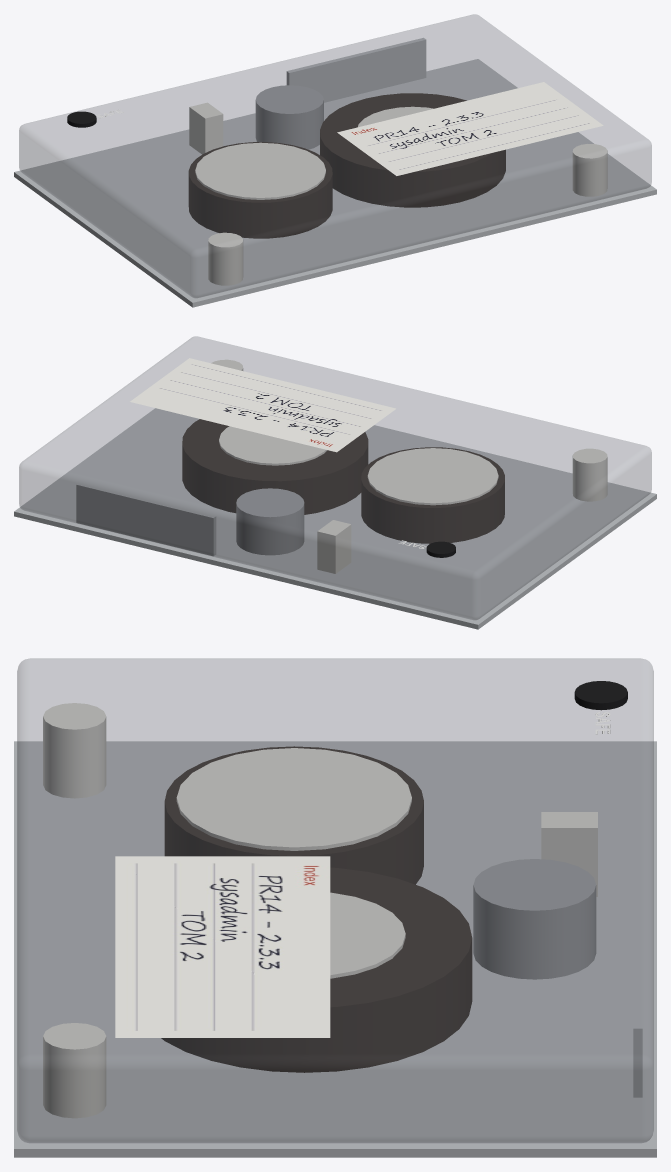
File: qic-cartridge.glb
3 views of the same model, one above another, from view 1: azimuth 30°, elevation 25°; view 2: azimuth 150°, elevation 25°; view 3: azimuth 270°, elevation 25° (orthographic). The views are drawn at different scales.
Visible parts, largest first — view 1: Дымчатый пластик, Алюминиевое основание, Магнитная лента, Наклейка Index, Катушки, Ролики; view 2: Дымчатый пластик, Алюминиевое основание, Магнитная лента, Наклейка Index, Катушки, Ролики; view 3: Дымчатый пластик, Алюминиевое основание, Наклейка Index, Катушки, Магнитная лента, Ролики, Чёрный пластик.
Part boxes in pixels (x1=…): Дымчатый пластик: x1=19, y1=14, x2=651, y2=297; Алюминиевое основание: x1=14, y1=38, x2=656, y2=307; Магнитная лента: x1=188, y1=93, x2=505, y2=238; Наклейка Index: x1=337, y1=82, x2=603, y2=175; Катушки: x1=189, y1=102, x2=607, y2=285; Ролики: x1=255, y1=85, x2=323, y2=149; Дымчатый пластик: x1=19, y1=336, x2=651, y2=619; Алюминиевое основание: x1=14, y1=408, x2=656, y2=629; Магнитная лента: x1=182, y1=419, x2=504, y2=543; Наклейка Index: x1=130, y1=358, x2=395, y2=452; Катушки: x1=211, y1=359, x2=607, y2=573; Ролики: x1=236, y1=488, x2=304, y2=555; Дымчатый пластик: x1=17, y1=658, x2=653, y2=1142; Алюминиевое основание: x1=14, y1=741, x2=656, y2=1157; Наклейка Index: x1=115, y1=856, x2=330, y2=1037; Катушки: x1=43, y1=703, x2=597, y2=1118; Магнитная лента: x1=161, y1=746, x2=472, y2=1072; Ролики: x1=473, y1=859, x2=596, y2=979; Чёрный пластик: x1=574, y1=681, x2=627, y2=710.
Bounding box in the file's own units: 0.1524 × 0.0181 × 0.1016.
8 materials, 2 textured.
